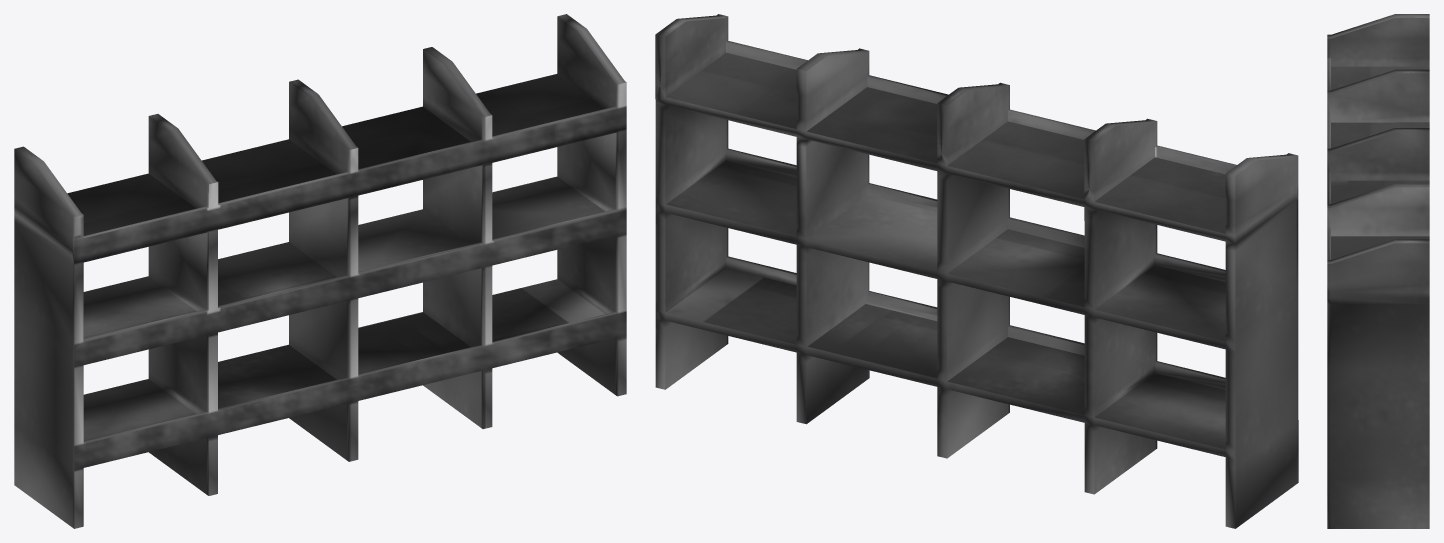
Rendered from LaundryStorage.obj.
3 renders of one model, left to right at view 1: azimuth 30°, elevation 25°; view 2: azimuth 150°, elevation 25°; view 3: azimuth 270°, elevation 25°, orthographic. The views are drawn at different scales.
Visible parts, largest first — view 1: LaundryStorage.obj; view 2: LaundryStorage.obj; view 3: LaundryStorage.obj.
Part boxes in pixels (left/top/right/bottom): LaundryStorage.obj: left=14, top=14, right=626, bottom=528; LaundryStorage.obj: left=655, top=14, right=1298, bottom=528; LaundryStorage.obj: left=1327, top=14, right=1429, bottom=528.
Bounding box in the file's own units: 23.65 × 13.75 × 4.45.
